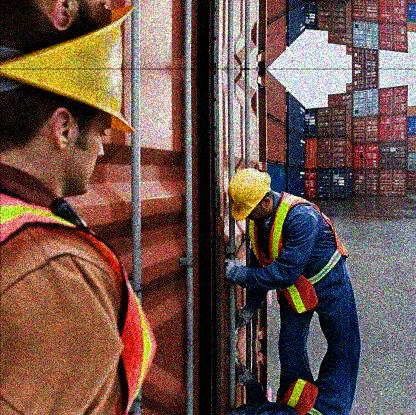helmet: (1, 69, 134, 205), (1, 1, 140, 68), (227, 169, 275, 227)
